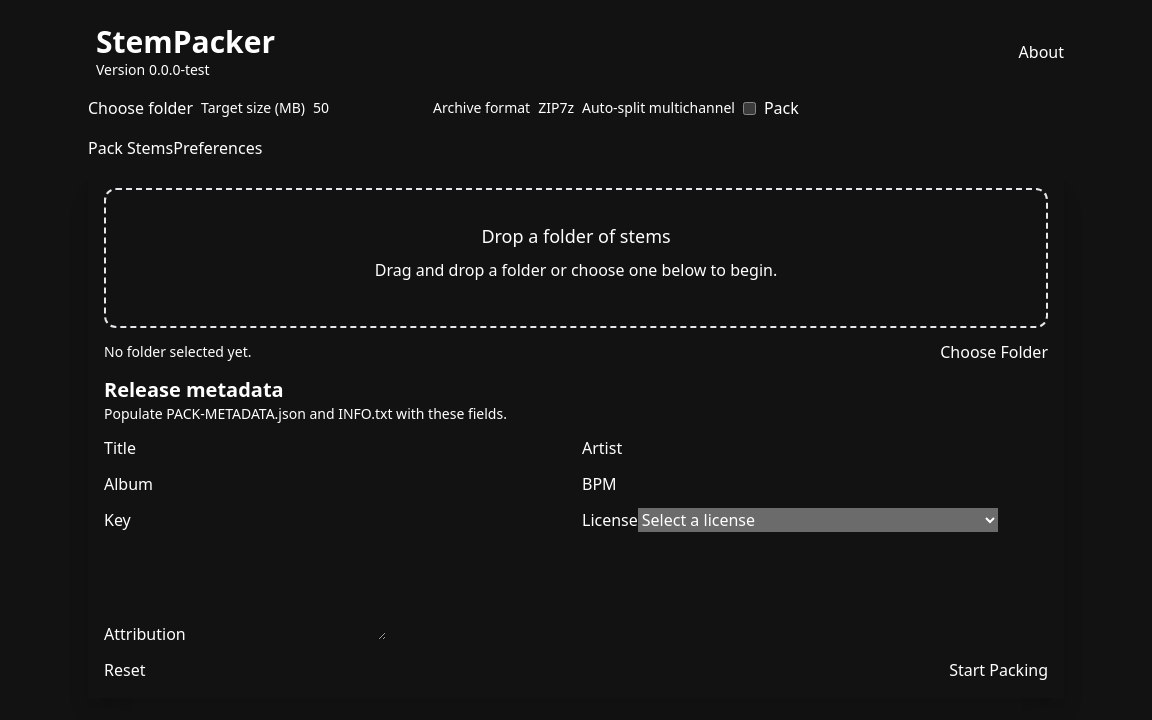
Test case: empty folder scan handling › defers the empty state until an empty scan completes and shows an error toast
Expected: the text "No supported audio files found in the folder." is not shown
Click the button "Choose Folder": {"x": 994, "y": 352} [940, 340, 1048, 364]
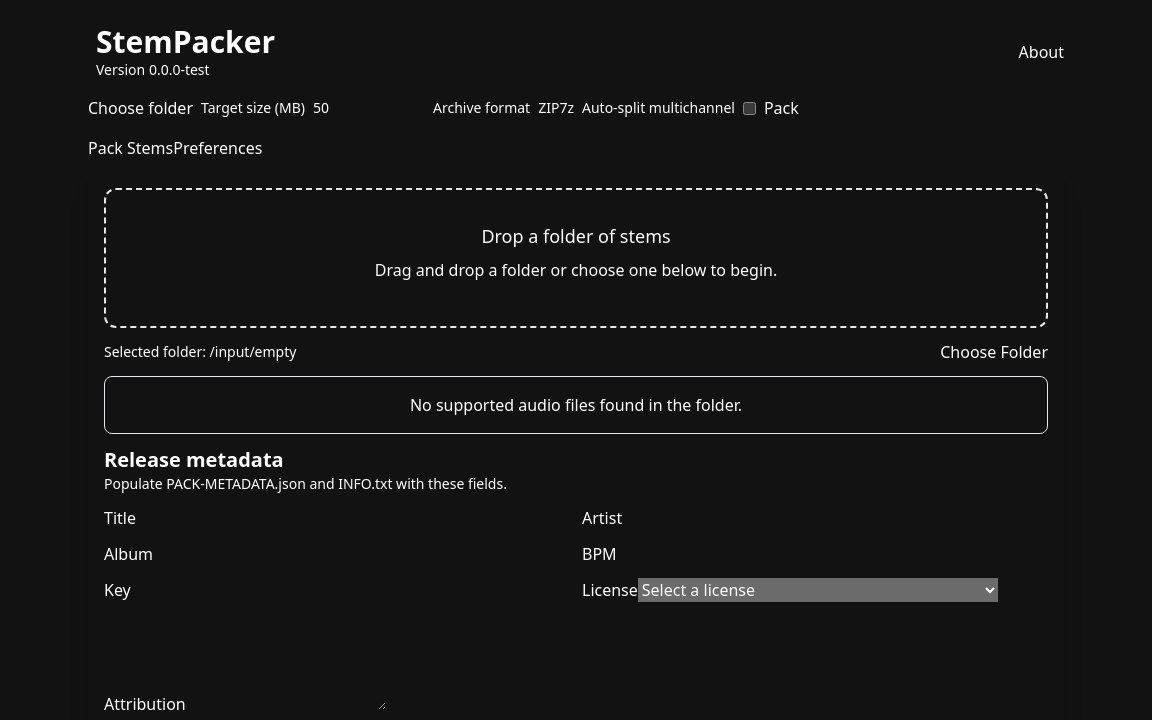
Expected: the text "No supported audio files found in the folder." is shown, [104, 376, 1048, 434]
